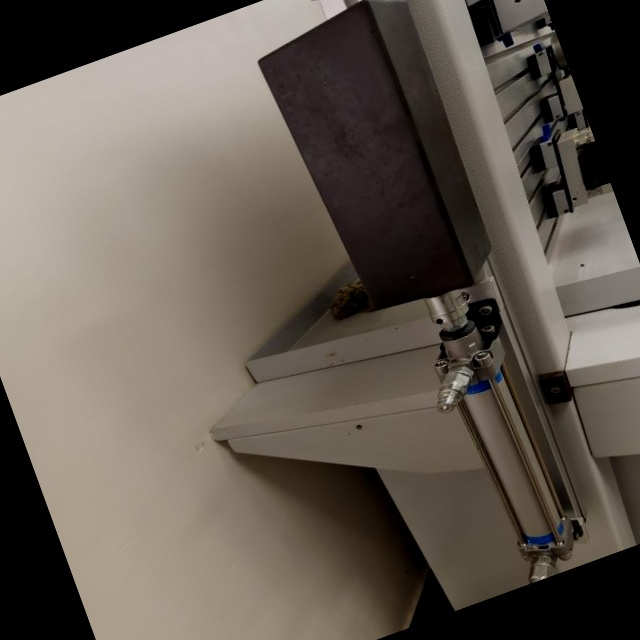load: (235, 0, 632, 613)
